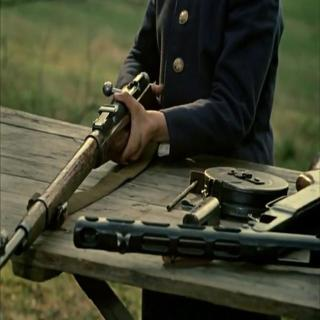gun: (7, 43, 166, 292)
